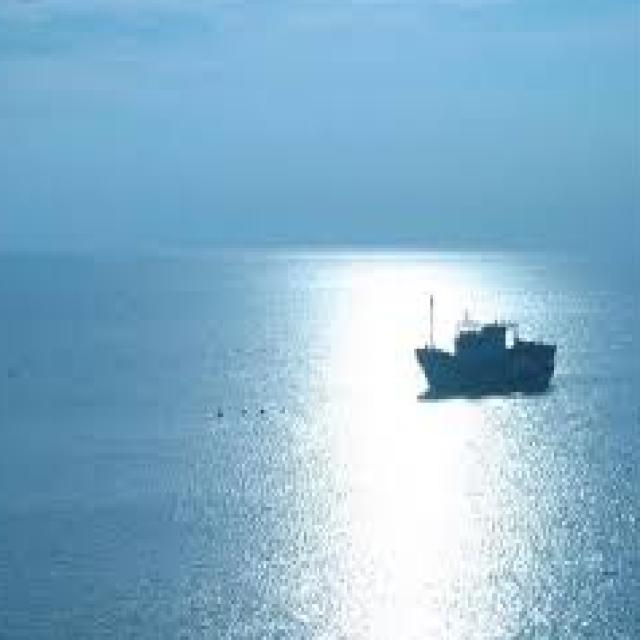fishing boat: (412, 299, 558, 388)
